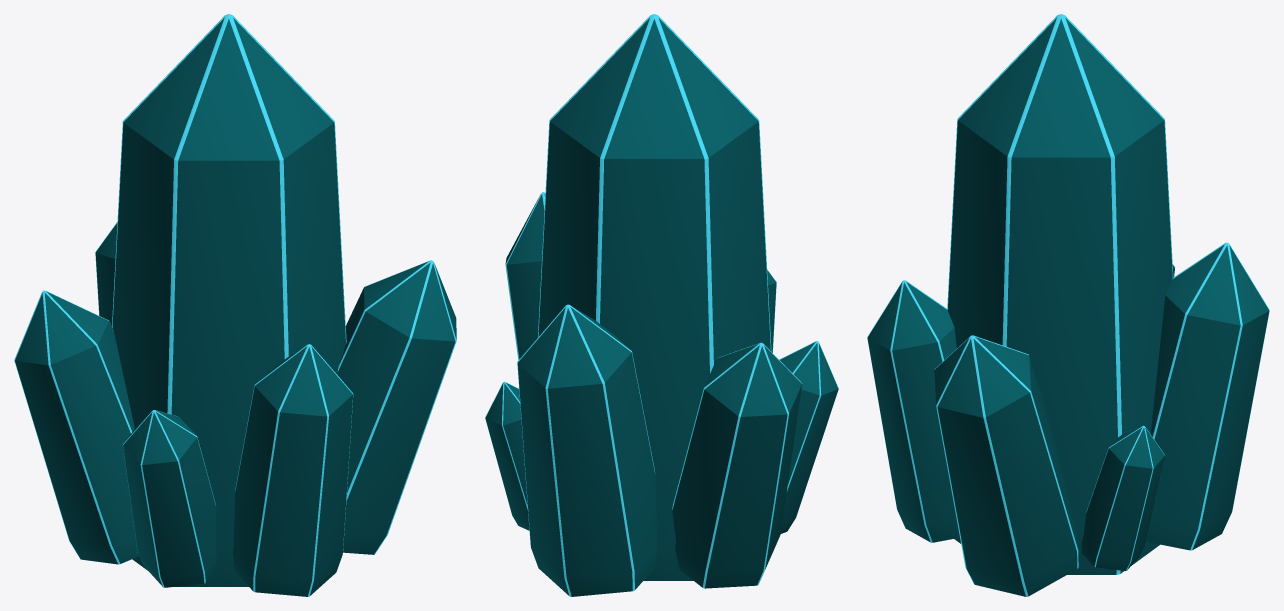
The model's file is Crystal.fbx.
3 views of the same model, side by side, from view 1: azimuth 30°, elevation 25°; view 2: azimuth 150°, elevation 25°; view 3: azimuth 270°, elevation 25° (orthographic). The views are drawn at different scales.
Visible parts, largest first — view 1: Cylinder.001; view 2: Cylinder.001; view 3: Cylinder.001.
Part boxes in pixels (bbox=[...]): Cylinder.001: bbox=[14, 14, 456, 596]; Cylinder.001: bbox=[485, 14, 838, 596]; Cylinder.001: bbox=[867, 14, 1269, 596].
Bounding box in the file's own units: 315 × 470 × 309.
